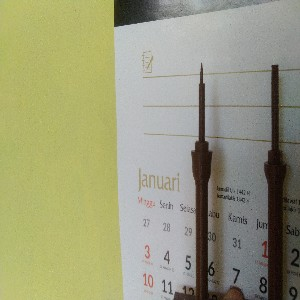obeng: (264, 63, 288, 300)
solder: (191, 62, 213, 300)
